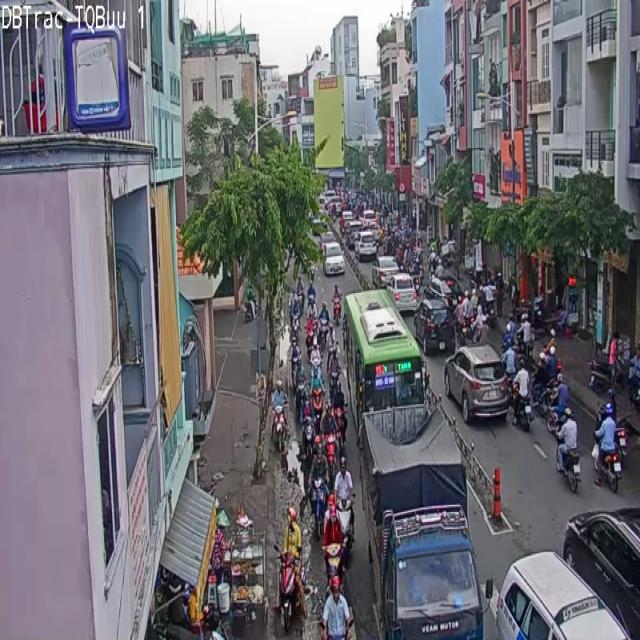car: (594, 405, 622, 491), (278, 546, 306, 631), (556, 408, 580, 491), (322, 495, 344, 582)
traffic-light: (444, 346, 507, 422)
truck: (364, 462, 483, 639), (366, 412, 461, 472)
